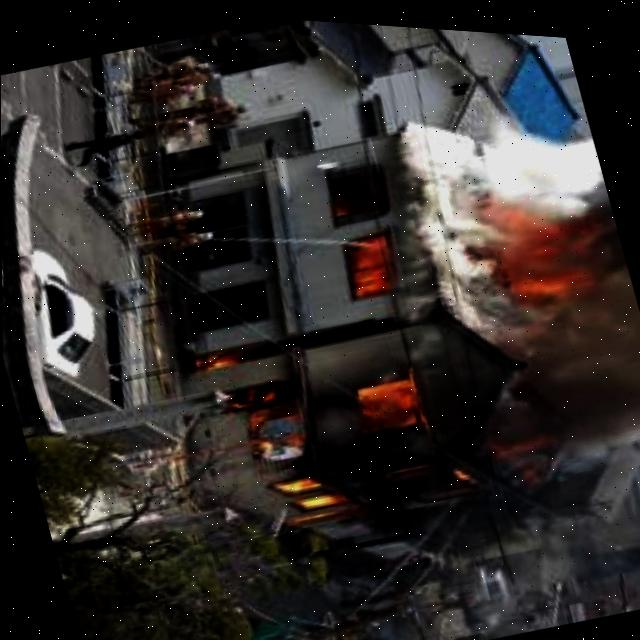Fire: (179, 266, 547, 596), (326, 187, 402, 294)
Smoke: (391, 70, 640, 473)
